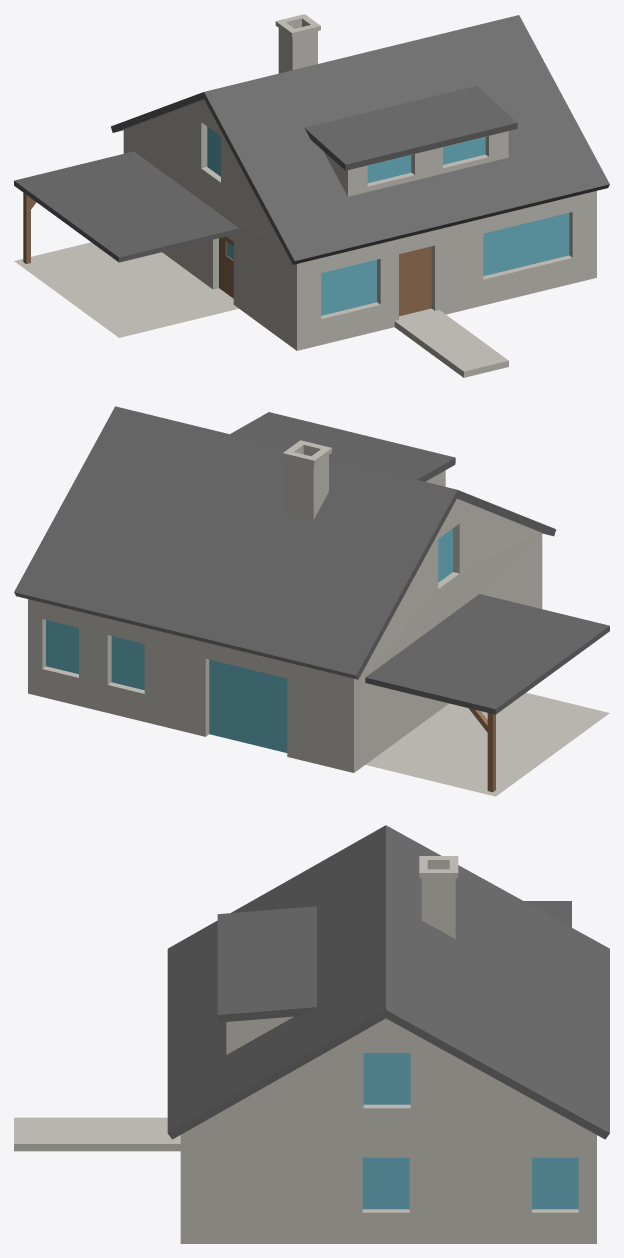
The model's file is house-small-carport-right.glb.
3 renders of one model, top to bottom at view 1: azimuth 30°, elevation 25°; view 2: azimuth 150°, elevation 25°; view 3: azimuth 270°, elevation 25°, orthographic. The views are drawn at different scales.
Parts seen in each view (by area): view 1: house-small-carport-right_Cube.019; view 2: house-small-carport-right_Cube.019; view 3: house-small-carport-right_Cube.019.
Part boxes in pixels (x1,y1,x2,y2): house-small-carport-right_Cube.019: (14,14,609,377); house-small-carport-right_Cube.019: (14,406,609,796); house-small-carport-right_Cube.019: (14,825,609,1243).
Size of the model in its own units: 14.25 by 7.08 by 14.31.
Materials: 1 (1 with a texture image).
